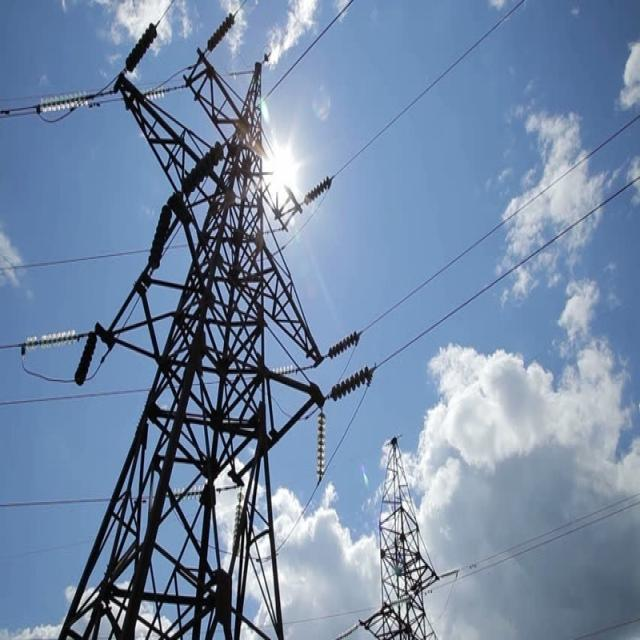non-critical vegetation: (55, 20, 334, 630), (372, 439, 438, 633)
